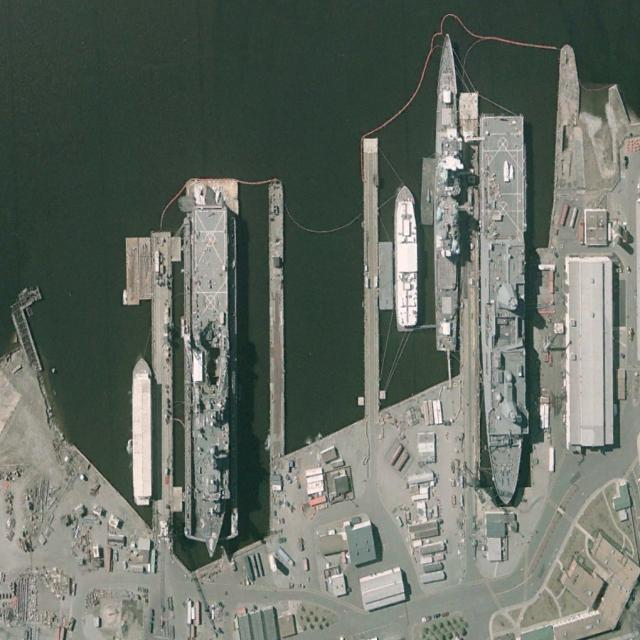Auxiliary Ships: (477, 114, 530, 505)
Cruiser: (433, 29, 462, 352)
Landing: (189, 205, 231, 560)
Other Ship: (393, 184, 419, 332), (131, 354, 154, 506)
